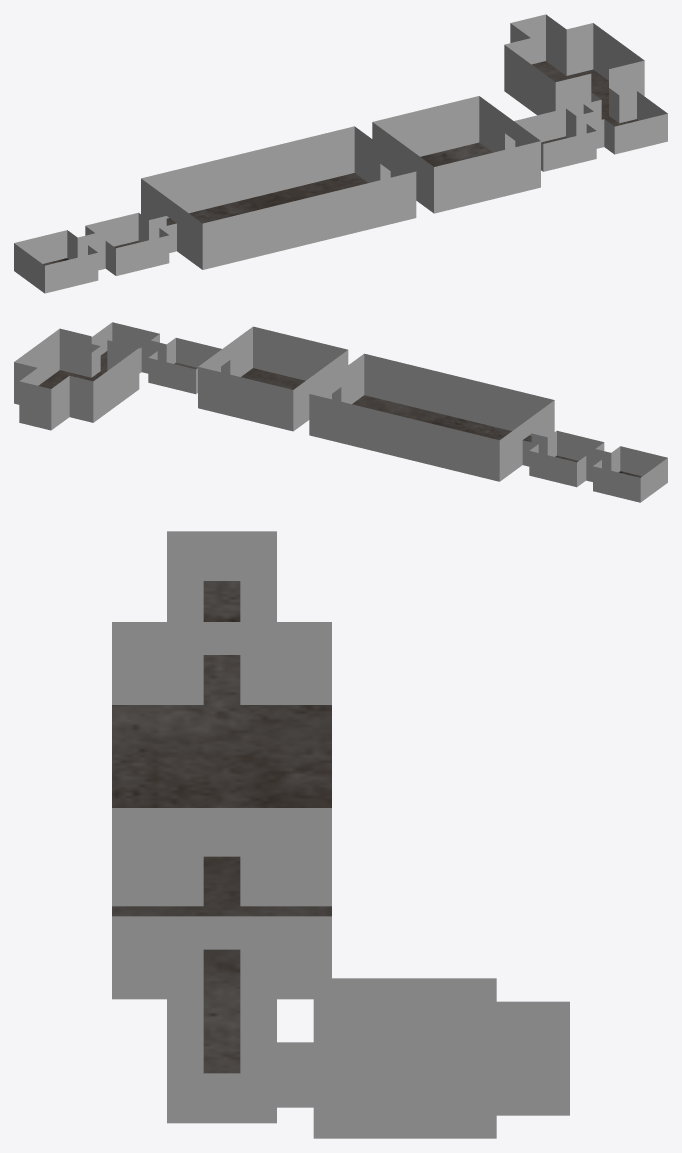
The model's file is stage3.fbx.
The picture shows the model from 3 angles, top to bottom: view 1: azimuth 30°, elevation 25°; view 2: azimuth 150°, elevation 25°; view 3: azimuth 270°, elevation 25°; orthographic projection. The views are drawn at different scales.
Parts seen in each view (by area): view 1: Wall, Floor; view 2: Wall, Floor; view 3: Wall, Floor.
Boxes of the visible parts, left/top/right/bottom form: Wall: left=14, top=14, right=667, bottom=293; Floor: left=43, top=61, right=638, bottom=265; Wall: left=14, top=322, right=667, bottom=502; Floor: left=38, top=351, right=641, bottom=477; Wall: left=112, top=531, right=569, bottom=1138; Floor: left=112, top=581, right=331, bottom=1073.
Size of the model in its own units: 18000 by 1250 by 6250.
